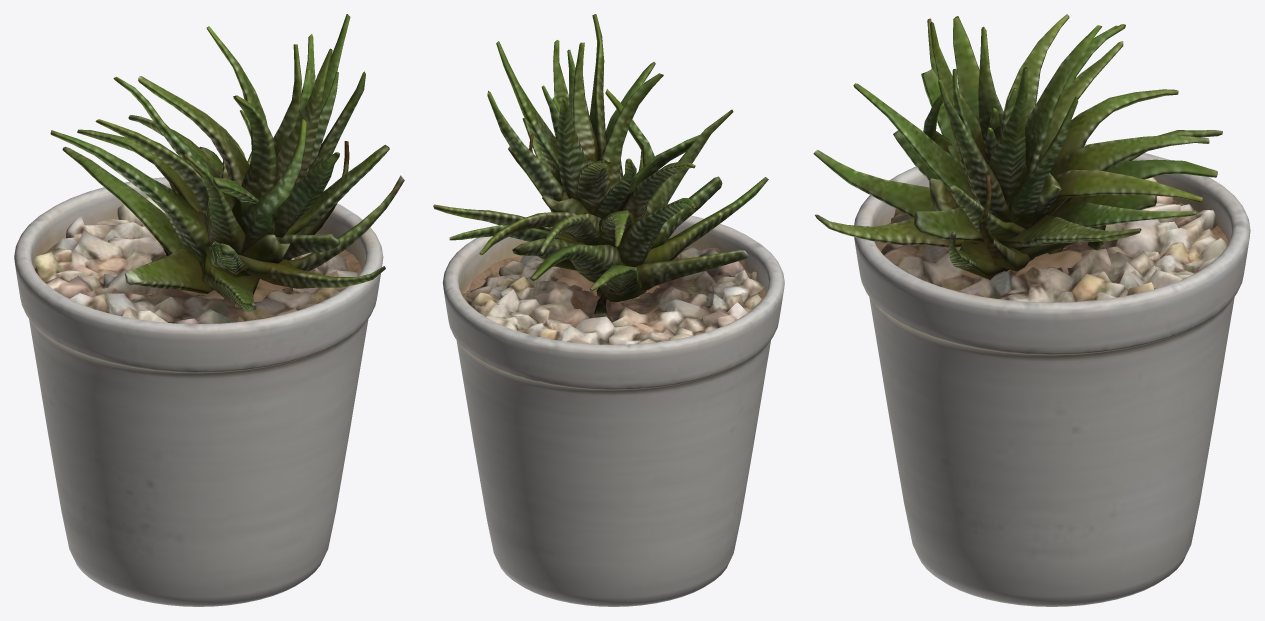
Rendered from succulent.glb.
The picture shows the model from 3 angles, left to right: view 1: azimuth 30°, elevation 25°; view 2: azimuth 150°, elevation 25°; view 3: azimuth 270°, elevation 25°; orthographic projection. The views are drawn at different scales.
Parts seen in each view (by area): view 1: potted_plant_04_pot, potted_plant_04_plant, potted_plant_04_ground, potted_plant_04_dirt; view 2: potted_plant_04_pot, potted_plant_04_plant, potted_plant_04_ground, potted_plant_04_dirt; view 3: potted_plant_04_pot, potted_plant_04_plant, potted_plant_04_ground, potted_plant_04_dirt.
Boxes of the visible parts, x1,y1,x2,y2 form: potted_plant_04_pot: (14,177,383,606); potted_plant_04_plant: (50,14,404,311); potted_plant_04_ground: (34,196,357,323); potted_plant_04_dirt: (34,238,362,307); potted_plant_04_pot: (442,215,784,606); potted_plant_04_plant: (433,14,768,314); potted_plant_04_ground: (463,247,765,344); potted_plant_04_dirt: (462,247,765,306); potted_plant_04_pot: (854,144,1250,606); potted_plant_04_plant: (813,14,1222,279); potted_plant_04_ground: (881,177,1227,302); potted_plant_04_dirt: (875,200,1228,297).
Bounding box in the file's own units: 0.1679 × 0.2675 × 0.1848.
Materials: 1 (1 with a texture image).
